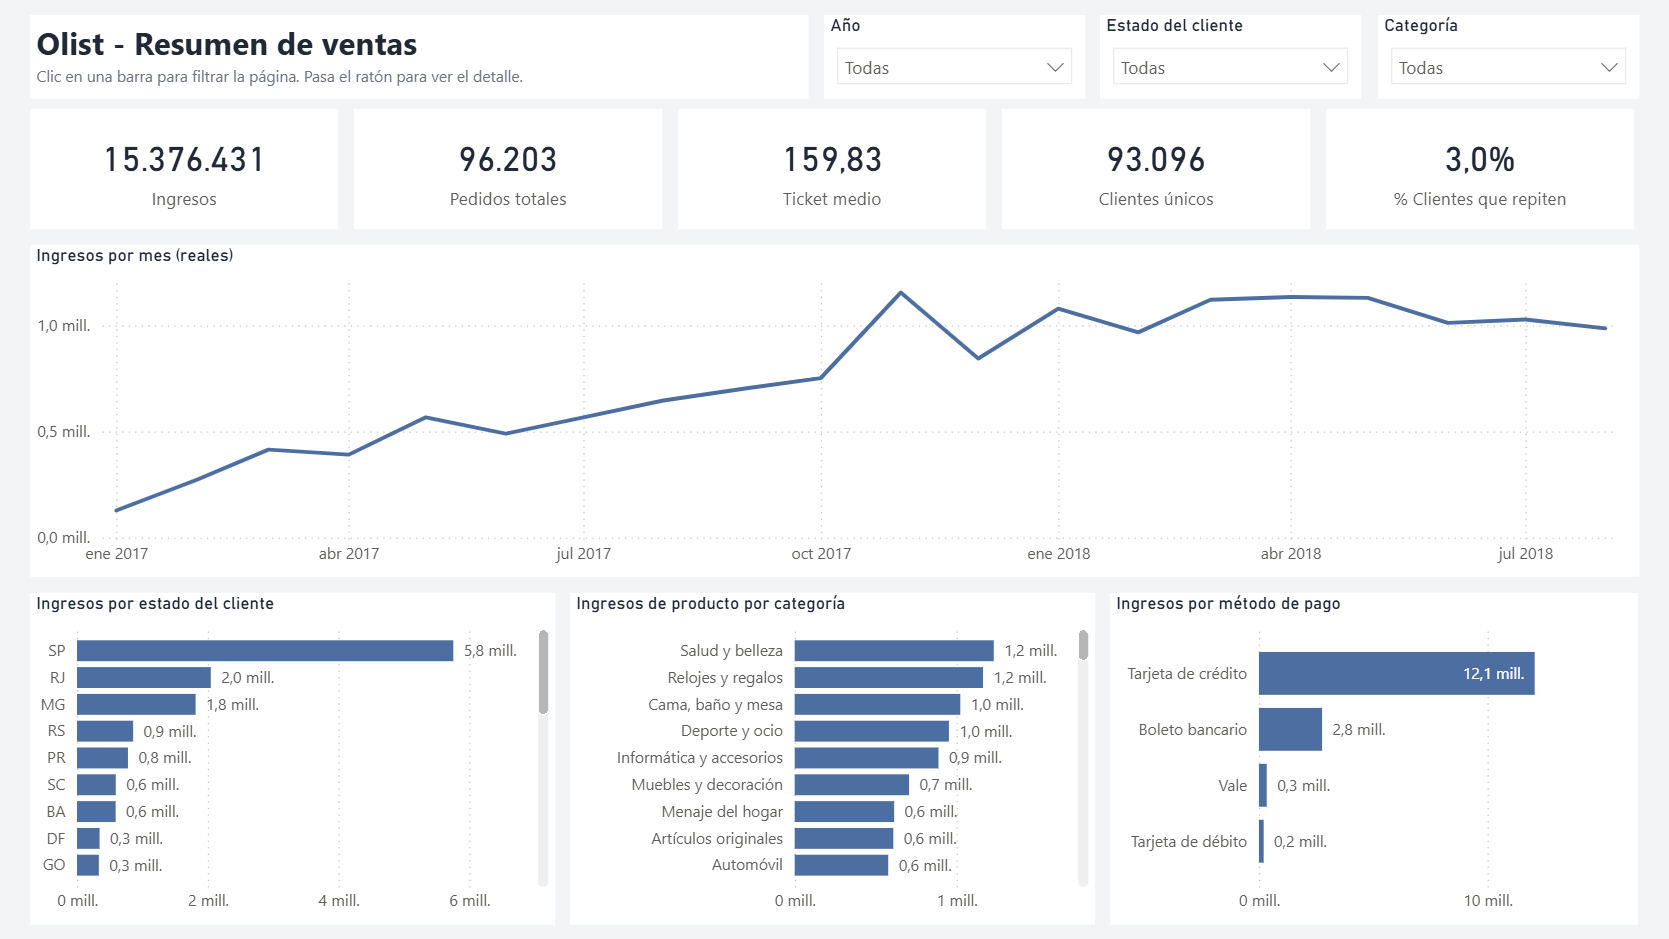

Layout of this report page (visuals, bound fields, positions):
{"tool":"powerbi","page":{"name":"Resumen de ventas","canvas":[1280,720],"ordinal":0},"visuals":[{"type":"textbox","box":[24,12,596,64],"z":0},{"type":"slicer","title":"Año","fields":{"Values":["Calendario.Año"]},"box":[632,12,200,64],"z":1},{"type":"slicer","title":"Estado del cliente","fields":{"Values":["Pedidos.customer_state"]},"box":[844,12,200,64],"z":2},{"type":"slicer","title":"Categoría","fields":{"Values":["Pedidos.categoria_principal"]},"box":[1056,12,200,64],"z":3},{"type":"card","fields":{"Values":["Pedidos.Ingresos"]},"box":[24,84,236,92],"z":4},{"type":"card","fields":{"Values":["Pedidos.Pedidos totales"]},"box":[272,84,236,92],"z":5},{"type":"card","fields":{"Values":["Pedidos.Ticket medio"]},"box":[520,84,236,92],"z":6},{"type":"card","fields":{"Values":["Pedidos.Clientes únicos"]},"box":[768,84,236,92],"z":7},{"type":"card","fields":{"Values":["Pedidos.% Clientes que repiten"]},"box":[1016,84,236,92],"z":8},{"type":"lineChart","title":"Ingresos por mes (reales)","fields":{"Category":["Calendario.Mes"],"Y":["Pedidos.Ingresos"]},"box":[24,188,1232,254],"z":9},{"type":"barChart","title":"Ingresos por estado del cliente","fields":{"Category":["Pedidos.customer_state"],"Y":["Pedidos.Ingresos"]},"box":[24,454,402,254],"z":10},{"type":"barChart","title":"Ingresos de producto por categoría","fields":{"Category":["Items.categoria"],"Y":["Items.Ingresos de producto"]},"box":[438,454,402,254],"z":11},{"type":"barChart","title":"Ingresos por método de pago","fields":{"Category":["Pedidos.tipo_pago"],"Y":["Pedidos.Ingresos"]},"box":[852,454,404,254],"z":12}]}

Visuals, with their boxes in screenshot pixels (x1, y1, x2, y2), scaled from the page's 1280x720 canvas onto the 1669x939 screenshot:
textbox: Rect(31, 16, 808, 99)
"Año" slicer: Rect(824, 16, 1085, 99)
"Estado del cliente" slicer: Rect(1100, 16, 1361, 99)
"Categoría" slicer: Rect(1377, 16, 1638, 99)
card - Pedidos.Ingresos: Rect(31, 110, 339, 230)
card - Pedidos.Pedidos totales: Rect(355, 110, 662, 230)
card - Pedidos.Ticket medio: Rect(678, 110, 986, 230)
card - Pedidos.Clientes únicos: Rect(1001, 110, 1309, 230)
card - Pedidos.% Clientes que repiten: Rect(1325, 110, 1632, 230)
"Ingresos por mes (reales)" lineChart: Rect(31, 245, 1638, 576)
"Ingresos por estado del cliente" barChart: Rect(31, 592, 555, 923)
"Ingresos de producto por categoría" barChart: Rect(571, 592, 1095, 923)
"Ingresos por método de pago" barChart: Rect(1111, 592, 1638, 923)
